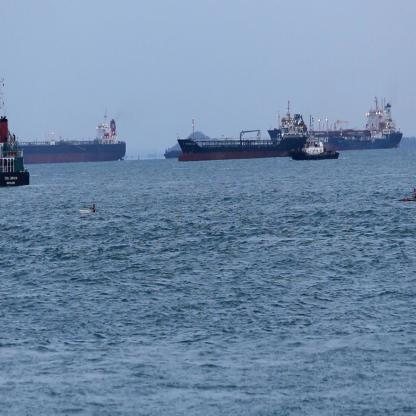Container Ship: (178, 100, 313, 161), (18, 107, 127, 163), (310, 94, 404, 150), (1, 75, 31, 188), (162, 148, 184, 158)
